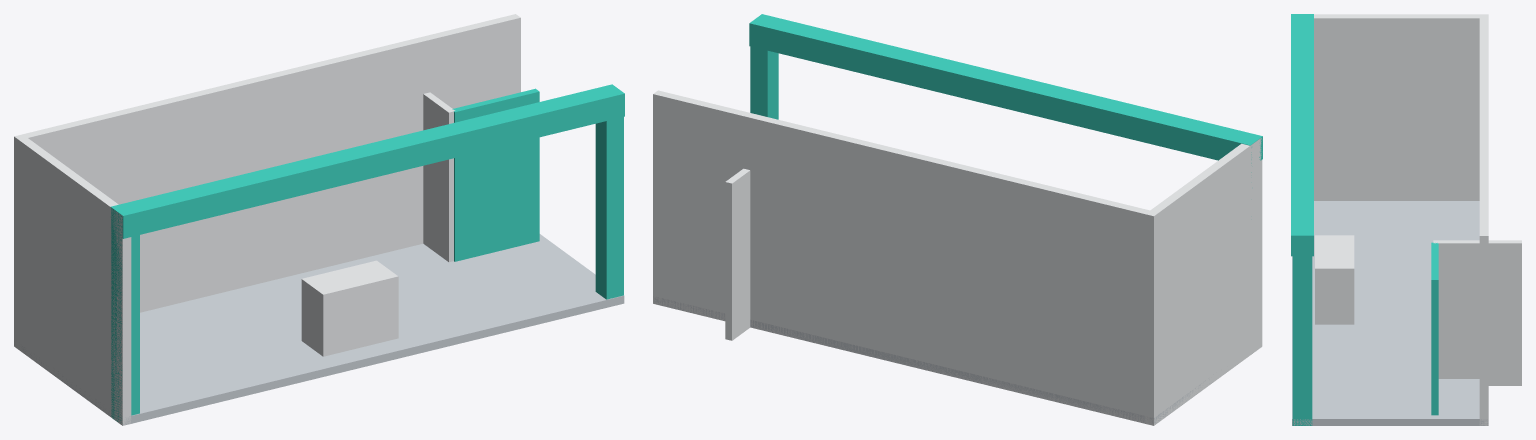
The picture shows the model from 3 angles, left to right: view 1: azimuth 30°, elevation 25°; view 2: azimuth 150°, elevation 25°; view 3: azimuth 270°, elevation 25°; orthographic projection. The views are drawn at different scales.
Parts seen in each view (by area): view 1: Exhibition Booth Concept; view 2: Exhibition Booth Concept; view 3: Exhibition Booth Concept.
Part boxes in pixels (left/top/right/bottom): Exhibition Booth Concept: left=14, top=14, right=624, bottom=425; Exhibition Booth Concept: left=653, top=14, right=1262, bottom=425; Exhibition Booth Concept: left=1291, top=14, right=1521, bottom=425.
Size of the model in its own units: 8 by 3.2 by 3.52.
